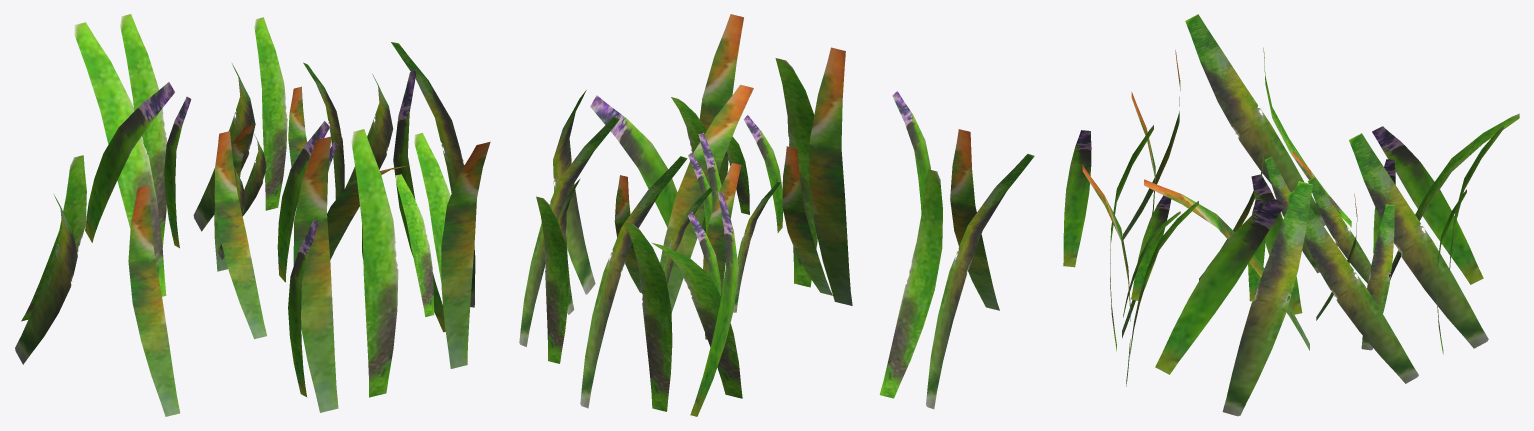
Rendered from grasstest2.fbx.
The picture shows the model from 3 angles, left to right: view 1: azimuth 30°, elevation 25°; view 2: azimuth 150°, elevation 25°; view 3: azimuth 270°, elevation 25°; orthographic projection. The views are drawn at different scales.
Parts seen in each view (by area): view 1: Circle|Plane.001|Dupli|1; view 2: Circle|Plane.001|Dupli|1; view 3: Circle|Plane.001|Dupli|1.
Part boxes in pixels (x1,y1,x2,y2): Circle|Plane.001|Dupli|1: [15, 14, 490, 416]; Circle|Plane.001|Dupli|1: [519, 14, 1034, 416]; Circle|Plane.001|Dupli|1: [1063, 14, 1519, 416].
Bounding box in the file's own units: 91.65 × 53.06 × 91.14.
1 material, 1 textured.
